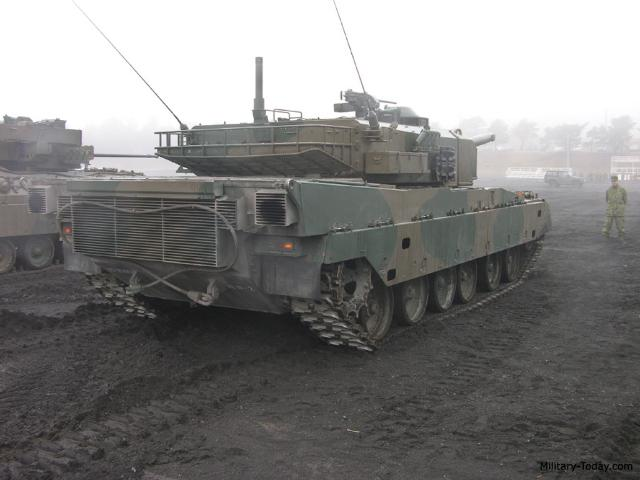other: (602, 172, 628, 240)
tank: (78, 96, 542, 308), (0, 103, 88, 254)
